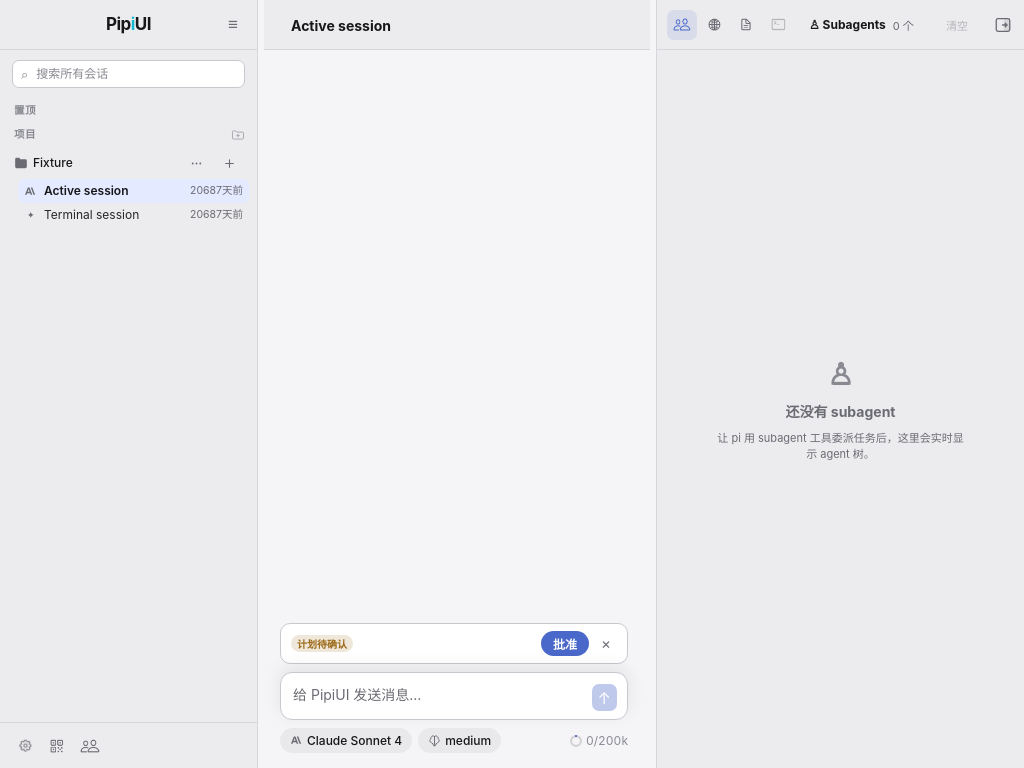
settled turn stays idle after a late streaming status › does not bind an in-flight status from the previously selected session to the terminal session
Check: the text "Active session" is shown, box x1=44 y1=183 x2=128 y2=198
What coordinates should you click on to do the following:
click the list item "✦ Terminal session 20687天前"
I would click on:
 (134, 216)
Its box is x1=18 y1=203 x2=249 y2=228.
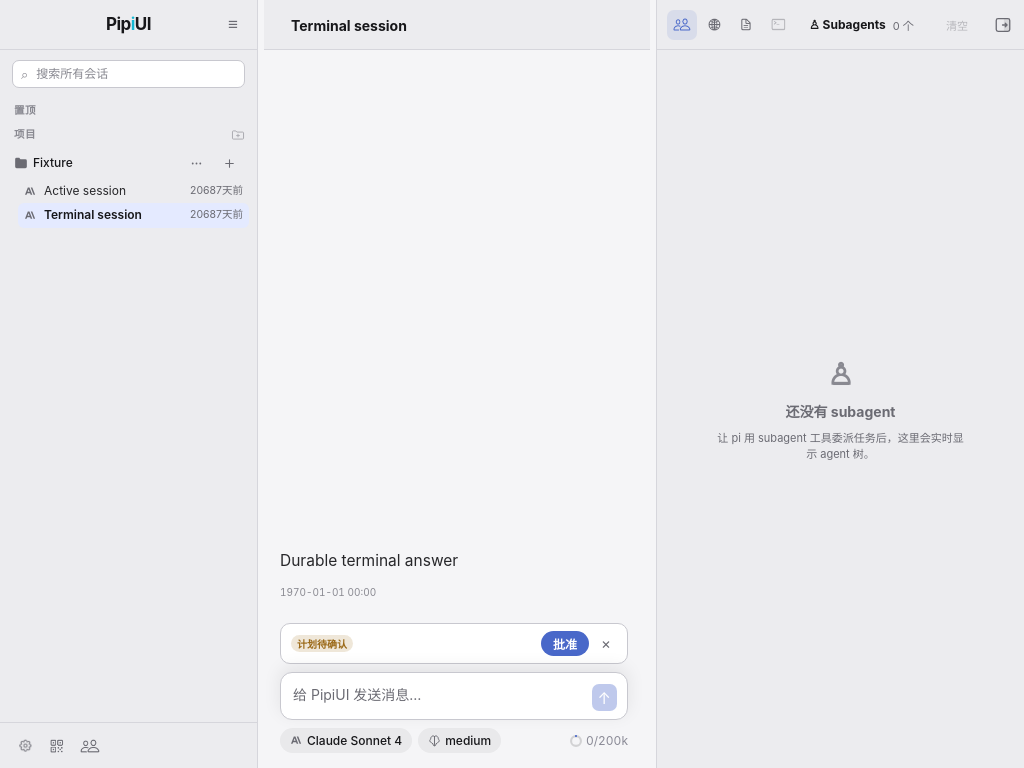
Check: the text "Terminal session" is shown, box x1=44 y1=207 x2=142 y2=222
Check: the text "Durable terminal answer" is shown, box x1=280 y1=551 x2=458 y2=570
